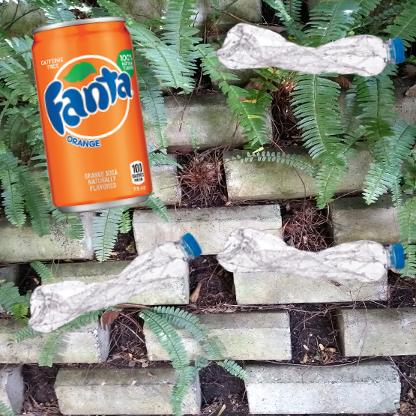botella: (10, 213, 275, 378), (213, 213, 416, 292), (213, 10, 416, 85)
lata: (10, 10, 179, 229)
